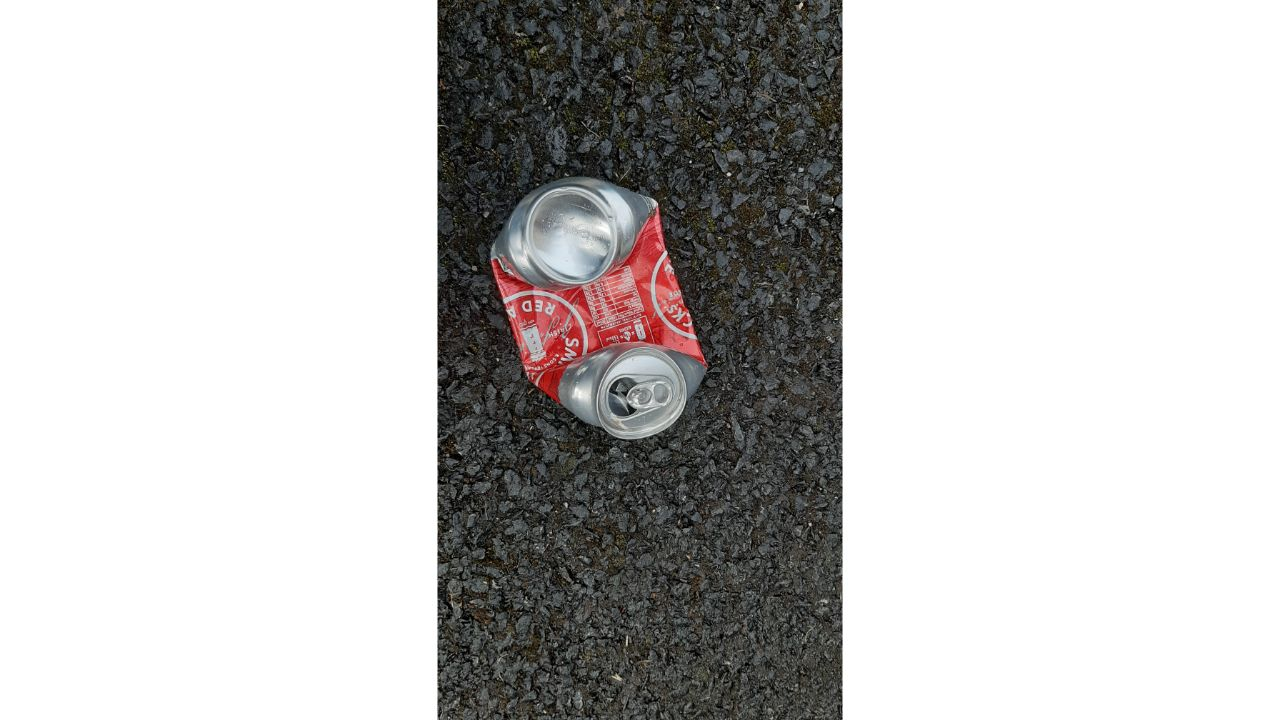Can: (487, 175, 710, 441)
